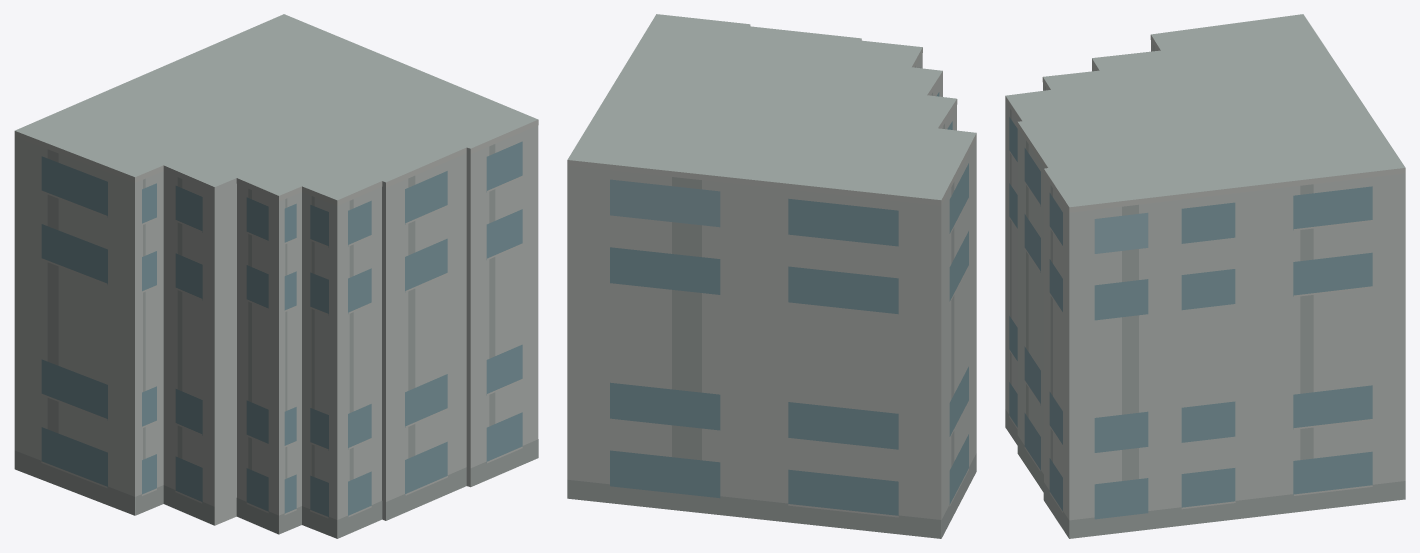
The model's file is survey-upis-32613545.glb.
The picture shows the model from 3 angles, left to right: view 1: azimuth 30°, elevation 25°; view 2: azimuth 150°, elevation 25°; view 3: azimuth 270°, elevation 25°; orthographic projection. The views are drawn at different scales.
Visible parts, largest first — view 1: survey-upis-32613545.tmp; view 2: survey-upis-32613545.tmp; view 3: survey-upis-32613545.tmp.
Boxes of the visible parts, x1,y1,x2,y2 form: survey-upis-32613545.tmp: [14, 14, 538, 538]; survey-upis-32613545.tmp: [567, 14, 976, 538]; survey-upis-32613545.tmp: [1005, 14, 1405, 538].
Size of the model in its own units: 18.01 by 14.4 by 15.76.
